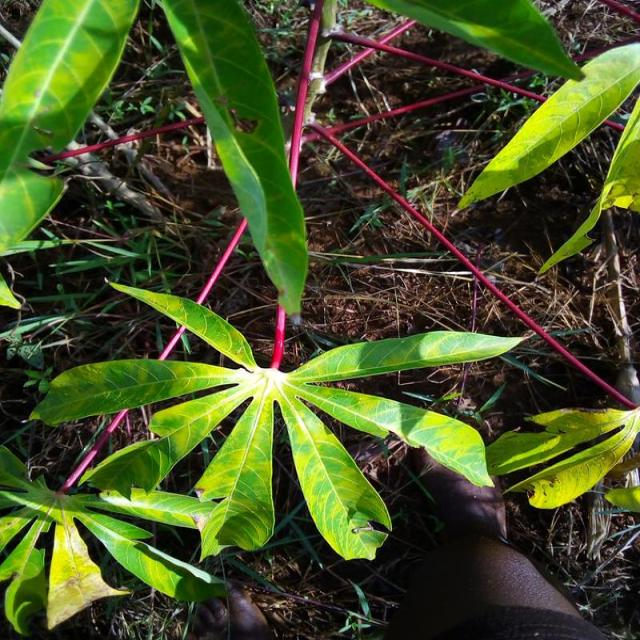cassava leaf: (28, 275, 531, 564), (158, 0, 310, 320), (0, 0, 140, 256), (456, 40, 638, 211), (537, 93, 638, 274), (364, 0, 584, 83)
